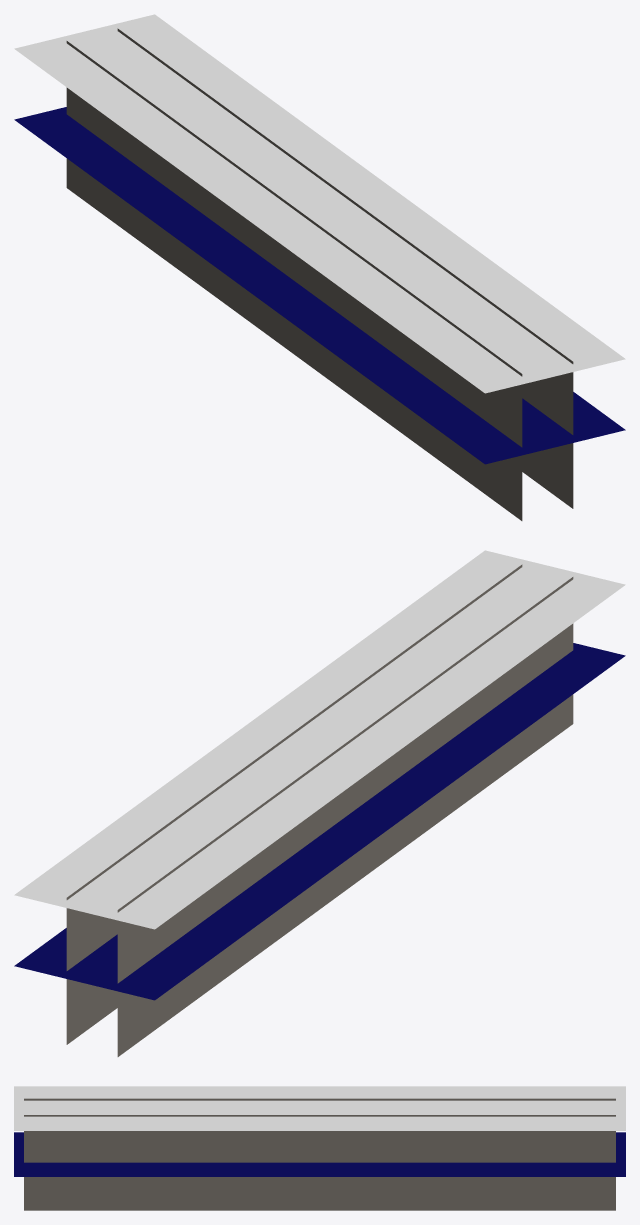
File: quarto.glb
3 renders of one model, top to bottom at view 1: azimuth 30°, elevation 25°; view 2: azimuth 150°, elevation 25°; view 3: azimuth 270°, elevation 25°, orthographic. The views are drawn at different scales.
Parts seen in each view (by area): view 1: Plane.004, Plane.003, Plane.001, Plane.002; view 2: Plane.004, Plane.003, Plane.001, Plane.002; view 3: Plane.002, Plane.004, Plane.001, Plane.003.
Boxes of the visible parts, <box> form: Plane.004: <box>14,14,625,393</box>; Plane.003: <box>66,41,522,520</box>; Plane.001: <box>14,107,625,464</box>; Plane.002: <box>117,28,573,508</box>; Plane.004: <box>14,550,625,929</box>; Plane.003: <box>117,577,573,1056</box>; Plane.001: <box>14,643,625,1000</box>; Plane.002: <box>66,564,522,1044</box>; Plane.002: <box>24,1115,615,1210</box>; Plane.004: <box>14,1086,625,1130</box>; Plane.001: <box>14,1132,625,1176</box>; Plane.003: <box>24,1098,615,1100</box>.
Bounding box in the file's own units: 16.63 × 16.63 × 96.31.
